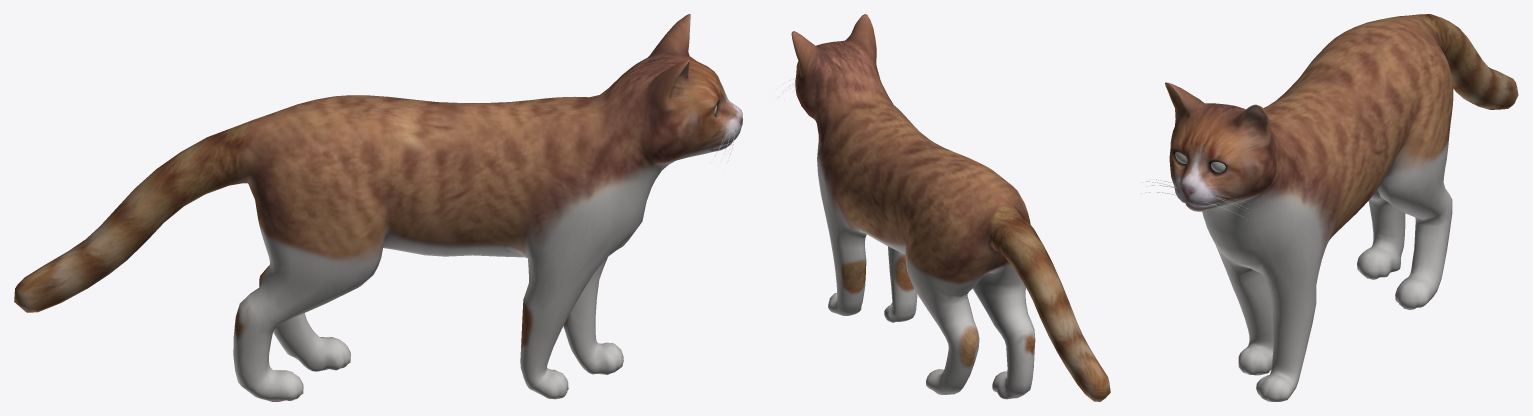
The model's file is cat9T.obj.
The picture shows the model from 3 angles, left to right: view 1: azimuth 30°, elevation 25°; view 2: azimuth 150°, elevation 25°; view 3: azimuth 270°, elevation 25°; orthographic projection. The views are drawn at different scales.
Parts seen in each view (by area): view 1: high_poly; view 2: high_poly; view 3: high_poly.
Boxes of the visible parts, bbox=[...] form: high_poly: bbox=[14, 14, 742, 401]; high_poly: bbox=[791, 14, 1110, 401]; high_poly: bbox=[1165, 14, 1518, 401].
Bounding box in the file's own units: 14.57 × 8.39 × 8.68.
Materials: 3 (1 with a texture image).
